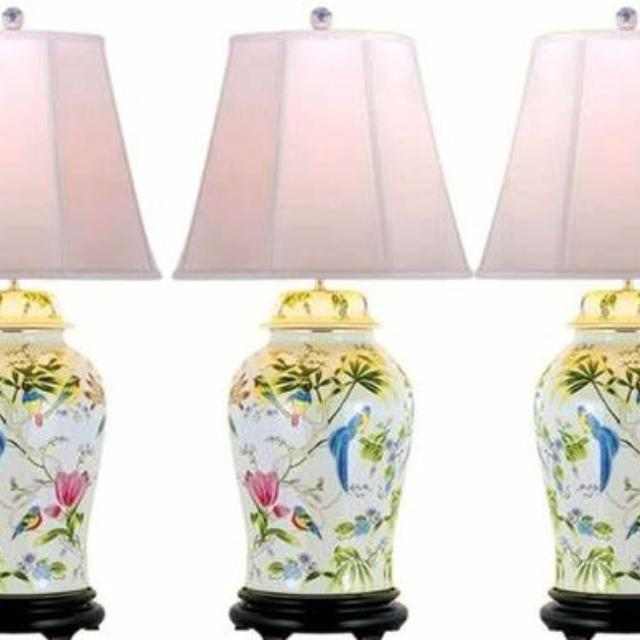lamp: (173, 7, 474, 640), (474, 7, 640, 640), (0, 7, 159, 638)
